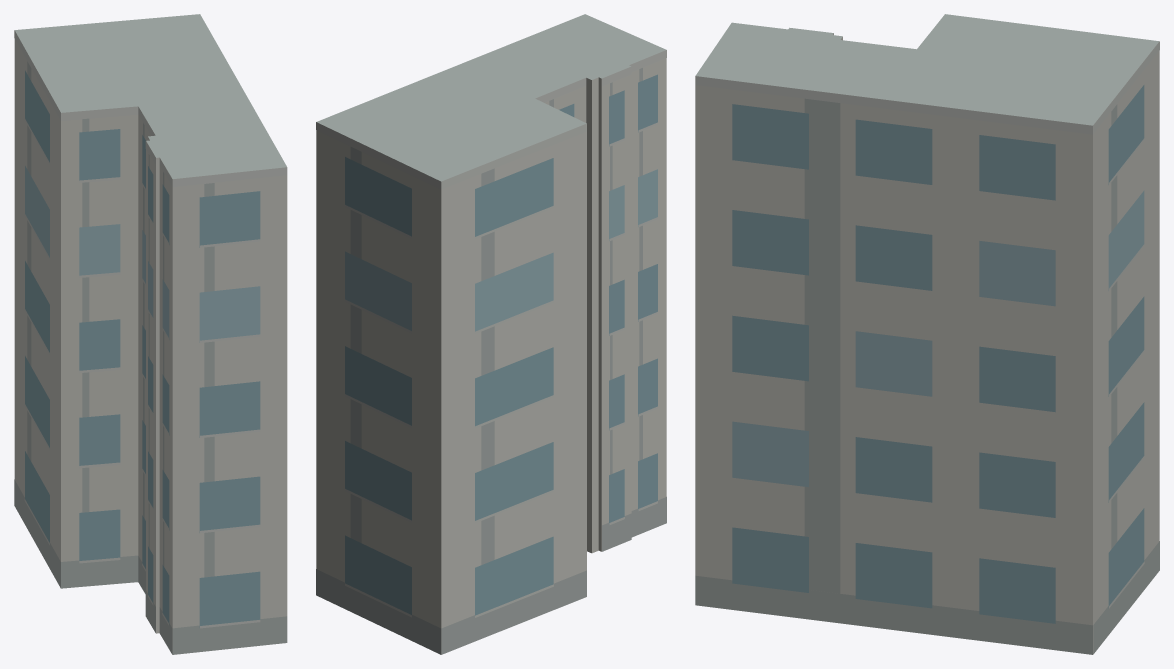
Rendered from survey-upis-32951192.glb.
3 views of the same model, side by side, from view 1: azimuth 30°, elevation 25°; view 2: azimuth 150°, elevation 25°; view 3: azimuth 270°, elevation 25° (orthographic). The views are drawn at different scales.
Visible parts, largest first — view 1: survey-upis-32951192.tmp; view 2: survey-upis-32951192.tmp; view 3: survey-upis-32951192.tmp.
Boxes of the visible parts, x1,y1,x2,y2 form: survey-upis-32951192.tmp: (14, 14, 287, 654); survey-upis-32951192.tmp: (316, 14, 666, 654); survey-upis-32951192.tmp: (695, 14, 1159, 654).
Size of the model in its own units: 6.48 by 14.3 by 11.38.
